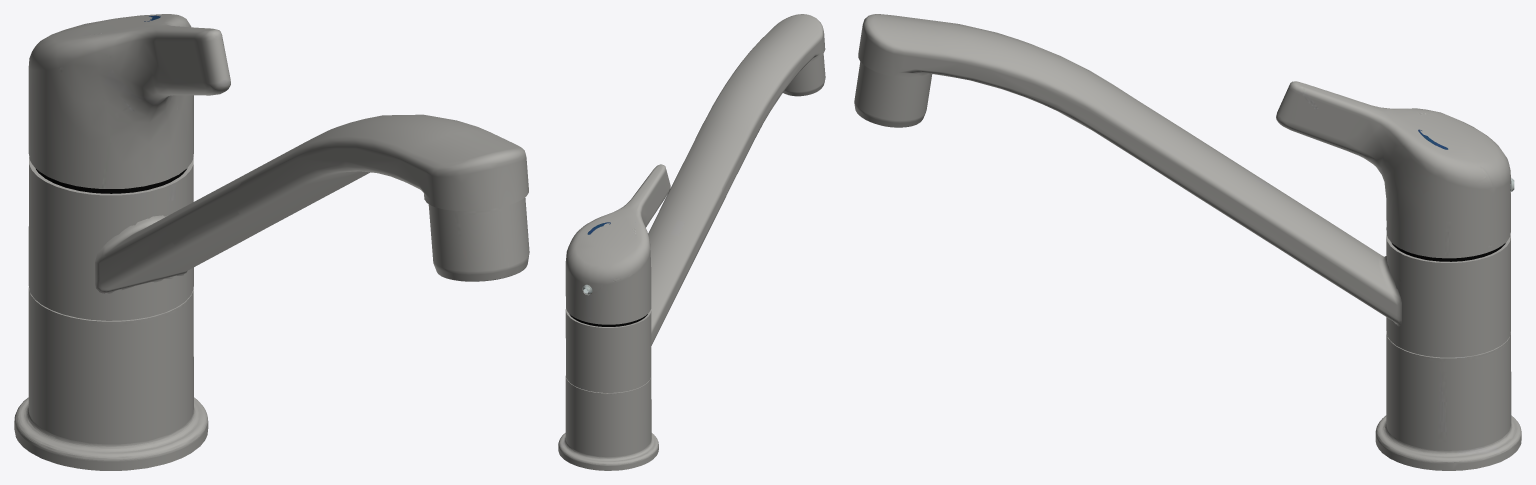
Rendered from kallsjon_bateria_sztorcowa_30475389.glb.
The picture shows the model from 3 angles, left to right: view 1: azimuth 30°, elevation 25°; view 2: azimuth 150°, elevation 25°; view 3: azimuth 270°, elevation 25°; orthographic projection. The views are drawn at different scales.
Parts seen in each view (by area): view 1: kallsjon_bateria_sztorcowa_30475389; view 2: kallsjon_bateria_sztorcowa_30475389; view 3: kallsjon_bateria_sztorcowa_30475389.
Part boxes in pixels (<box>): kallsjon_bateria_sztorcowa_30475389: <box>14,14,529,470</box>; kallsjon_bateria_sztorcowa_30475389: <box>558,14,825,470</box>; kallsjon_bateria_sztorcowa_30475389: <box>854,14,1521,470</box>.
Size of the model in its own units: 0.047 by 0.1491 by 0.2146.
1 material, 1 textured.
